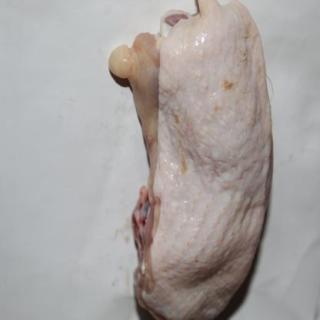Ayam: (111, 2, 273, 320)
